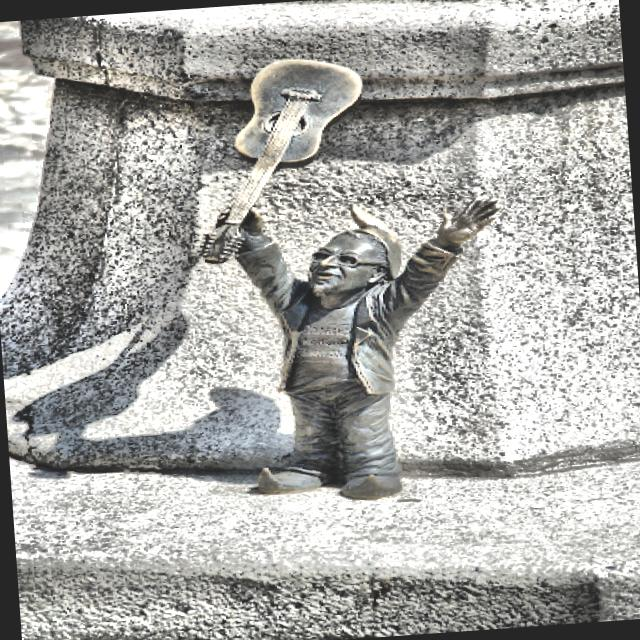Leszko_z_Wroclawia: (201, 57, 499, 501)
